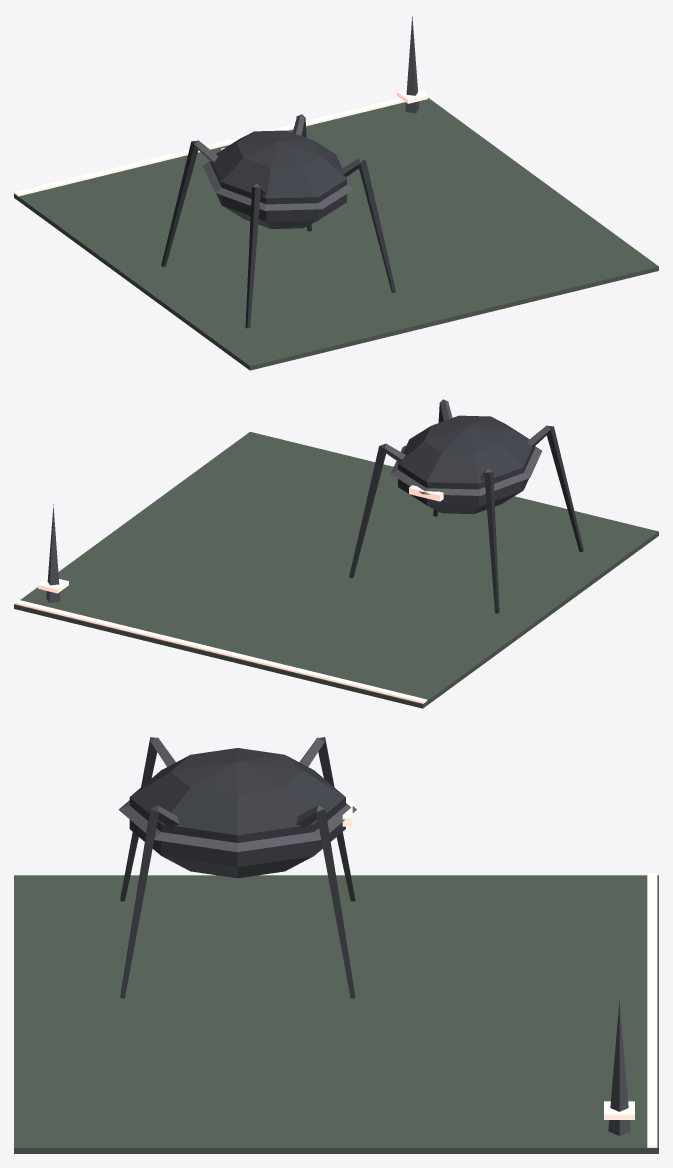
Rendered from zone_low_5_t1.glb.
3 renders of one model, top to bottom at view 1: azimuth 30°, elevation 25°; view 2: azimuth 150°, elevation 25°; view 3: azimuth 270°, elevation 25°, orthographic. The views are drawn at different scales.
Visible parts, largest first — view 1: zone_low_5_t1, detail; view 2: zone_low_5_t1, detail; view 3: zone_low_5_t1, detail.
Part boxes in pixels (box(x1,y1,x2,y2)): zone_low_5_t1: box(14, 97, 658, 370); detail: box(14, 16, 427, 196); zone_low_5_t1: box(14, 399, 658, 708); detail: box(14, 504, 426, 703); zone_low_5_t1: box(14, 737, 658, 1153); detail: box(604, 873, 657, 1147).
Size of the model in its own units: 19.6 by 6.49 by 19.6.
